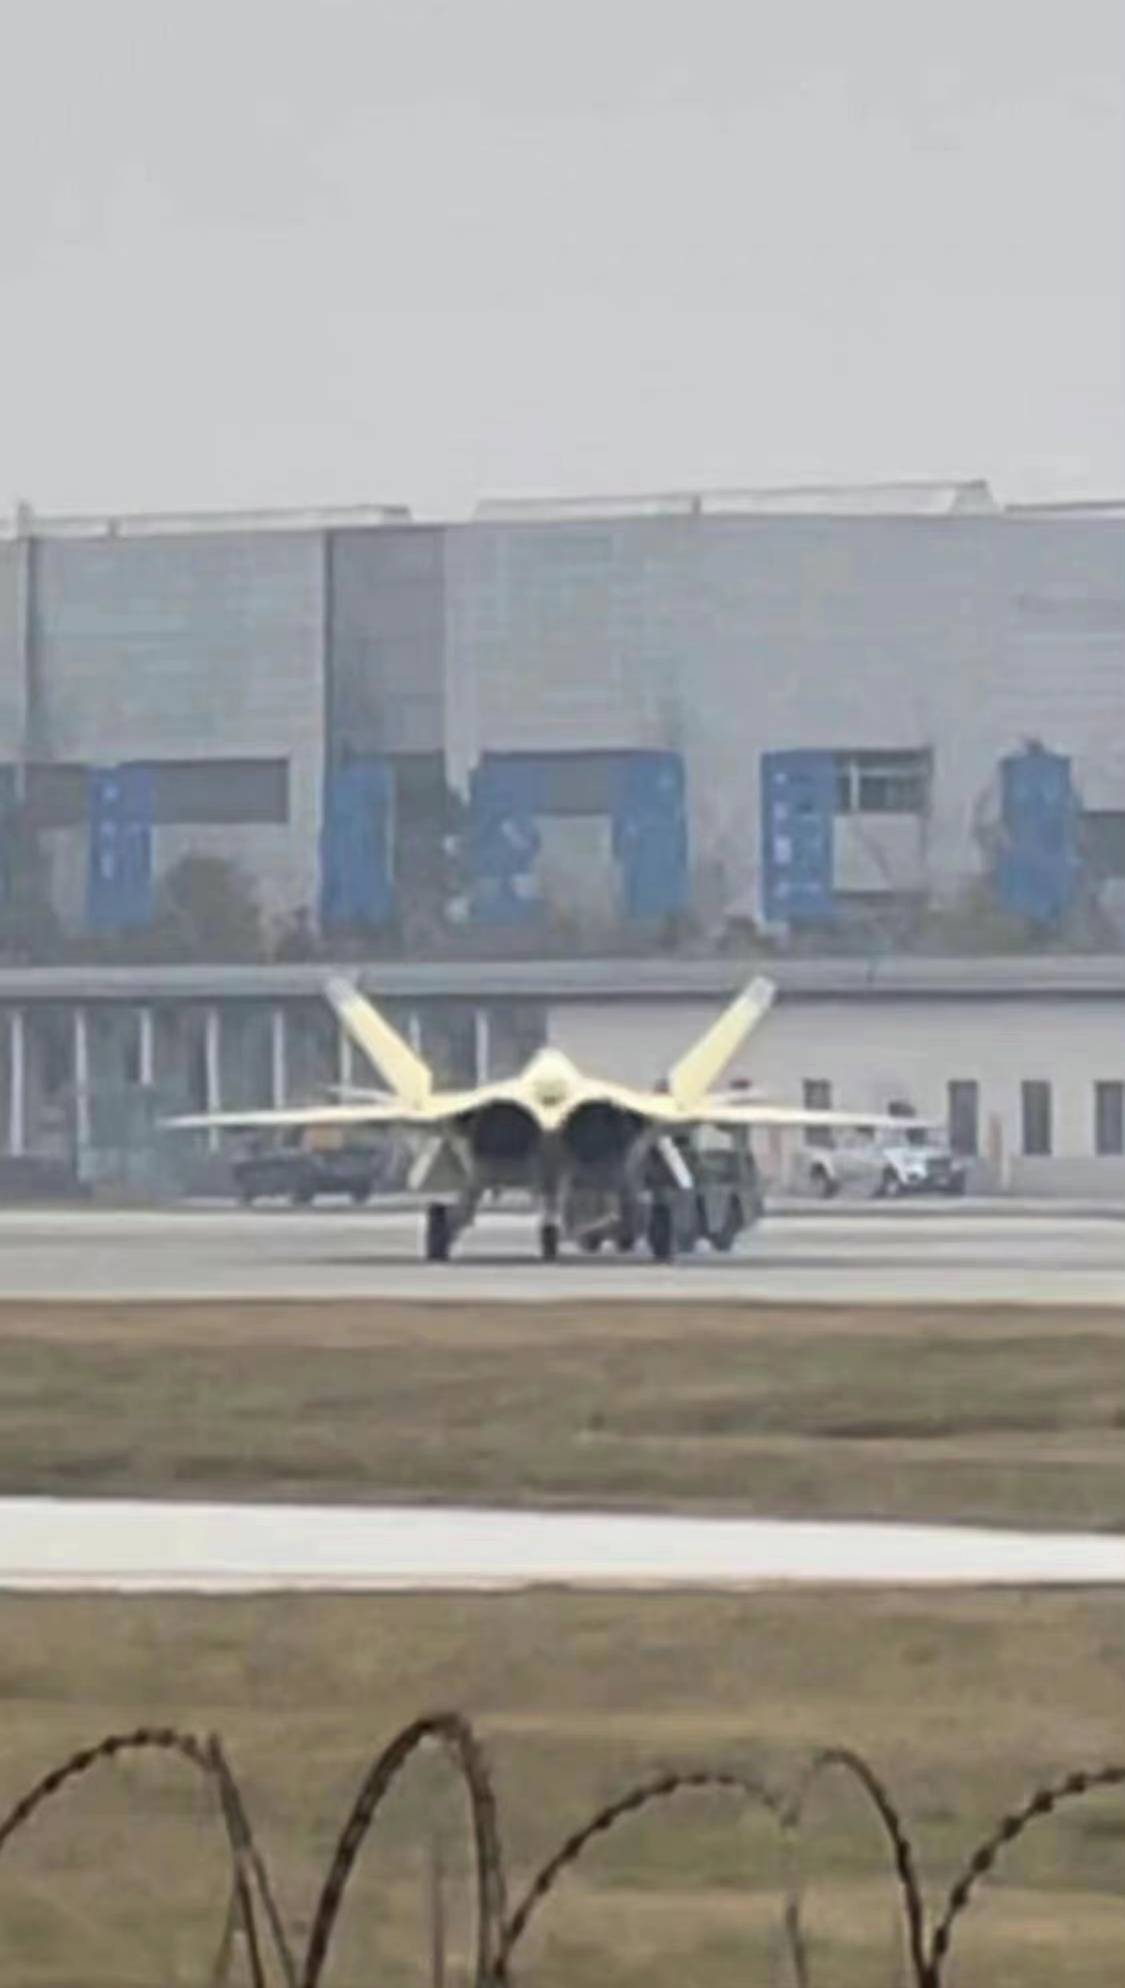J20: (153, 974, 946, 1262)
